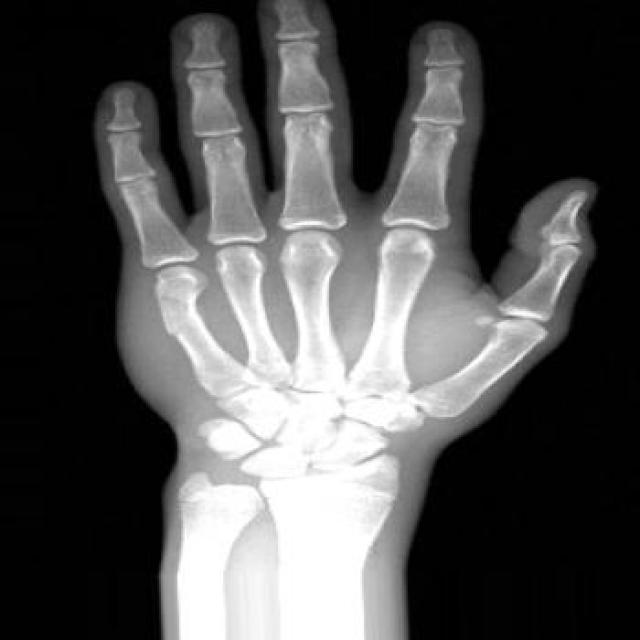Fracture: (140, 292, 211, 337)
